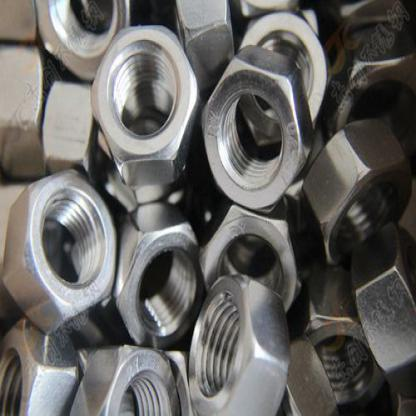FOD: (3, 163, 120, 338), (89, 19, 200, 185), (203, 54, 313, 217), (109, 204, 212, 349)
